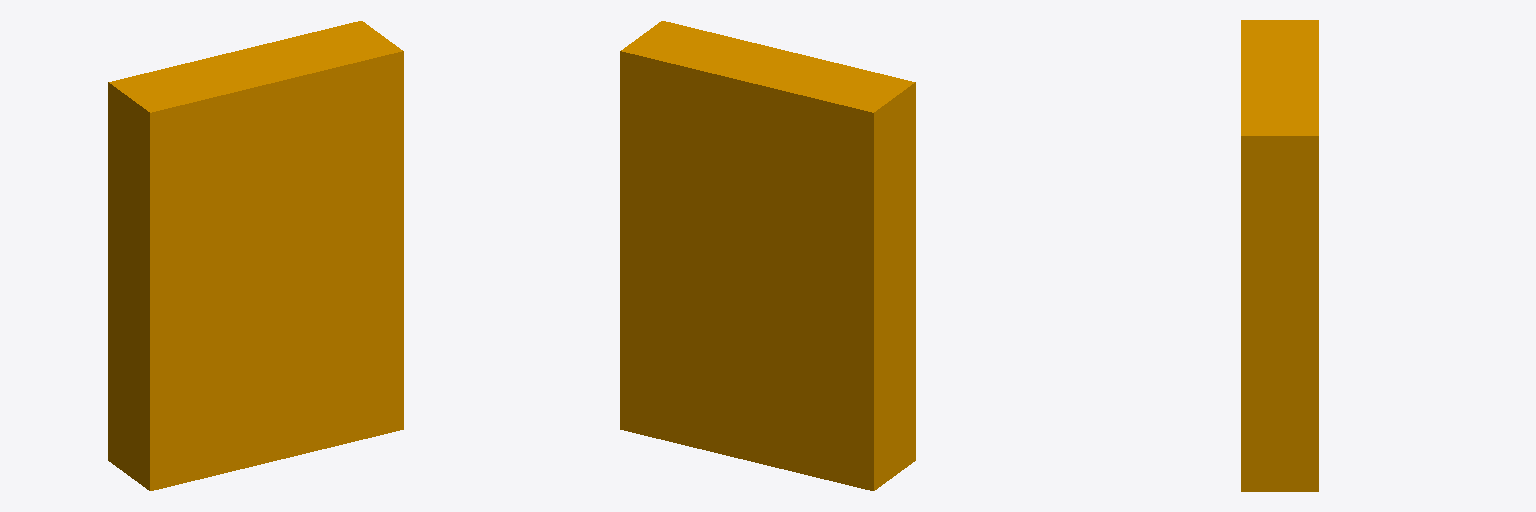
robot.urdf — kelloges:
<?xml version="1.0" ?>
<robot name="kelloges">

<material name="silver">
  <color rgba="1 1 1 1.000"/>
</material>

<link name="base_link">
  <inertial>
    <origin xyz="0.0 0.0 0.1" rpy="0 0 0"/>
    <mass value="5.792000000000002"/>
    <inertia ixx="0.030478933333333305" iyy="0.04366693333333328" izz="0.015532533333333327" ixy="0.0" iyz="0.0" ixz="0.0"/>
  </inertial>
  <visual>
    <origin xyz="0 0 0" rpy="0 0 0"/>
    <geometry>
      <mesh filename="meshes/kellogesbox.obj" scale="0.01 0.01 0.01"/>
    </geometry>
    <material name="silver"/>
    <material/>
  </visual>
  <collision>
    <origin xyz="0 0 0" rpy="0 0 0"/>
    <geometry>
      <mesh filename="meshes/base_link.stl" scale="0.001 0.001 0.001"/>
    </geometry>
    <contact>
 <friction_anchor/>
 <soft_cfm value="0.0"/>
  <soft_erp value="0.2"/>
  </contact>
  </collision>

</link>

</robot>

--- Render facts (derived) ---
3 views of the same robot in one strip: view 1: azimuth 30°, elevation 25°; view 2: azimuth 150°, elevation 25°; view 3: azimuth 270°, elevation 25° (orthographic).
Robot: kelloges — 1 links, 0 joints (none); root link base_link; default pose: all joints at 0.
Visible links, largest first — view 1: base_link; view 2: base_link; view 3: base_link.
Link boxes in pixels (box(x1,y1,x2,y2)): base_link: box(108, 21, 403, 490); base_link: box(620, 21, 915, 490); base_link: box(1241, 20, 1318, 491).
Bounding box of the posed robot: 0.14 × 0.04 × 0.2 m (x, y, z).
1 mesh visuals loaded from 1 distinct referenced files (1 OBJ).